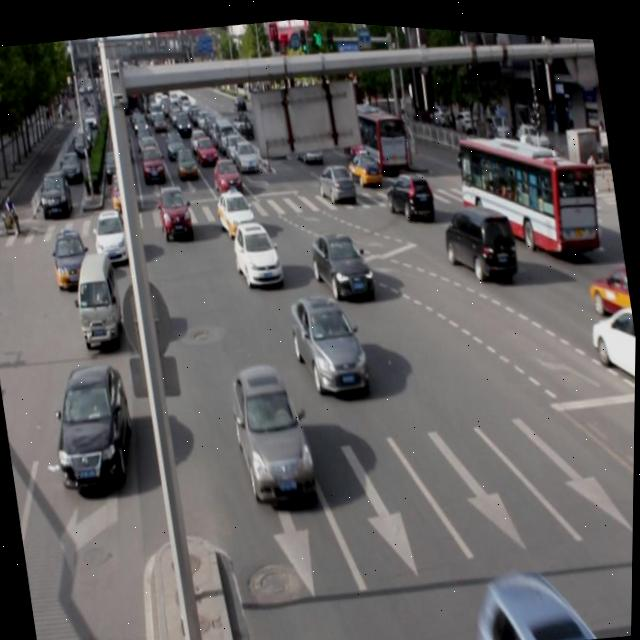car: (227, 351, 322, 507), (46, 354, 142, 494), (469, 551, 600, 640), (285, 281, 372, 395), (440, 191, 521, 281), (309, 217, 378, 304), (585, 289, 637, 388), (230, 211, 286, 286), (584, 249, 636, 325), (383, 161, 436, 219), (90, 204, 131, 263)
truck: (72, 246, 130, 348)
van: (455, 110, 603, 259)
